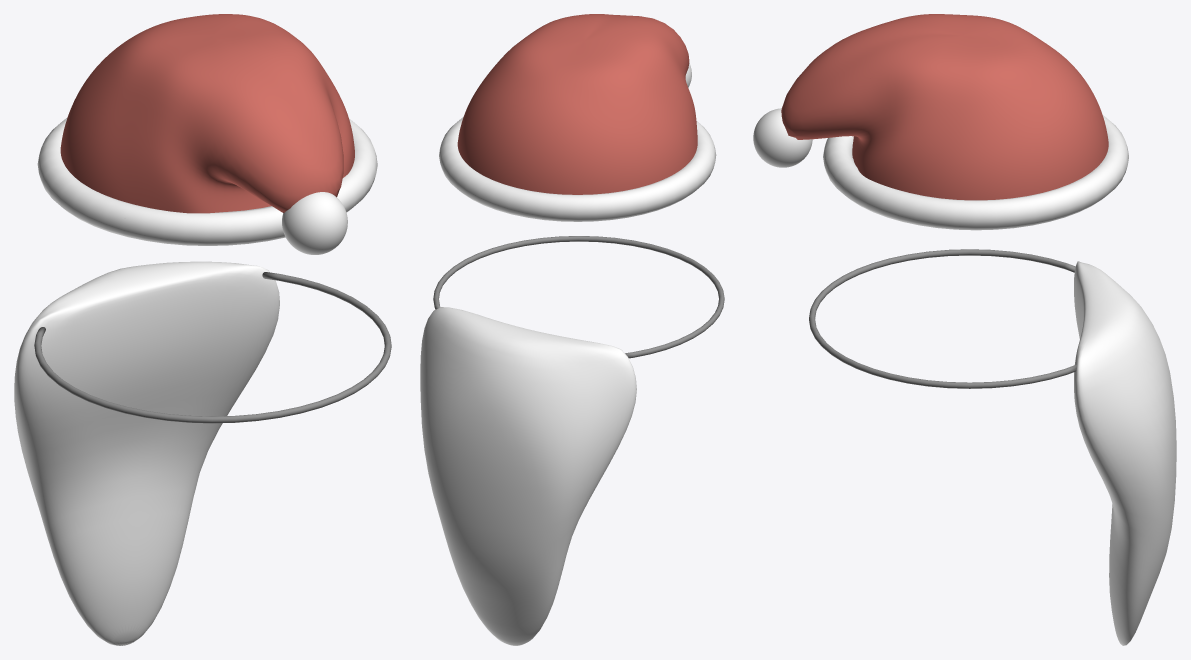
The model's file is SnowShapka.fbx.
3 views of the same model, side by side, from view 1: azimuth 30°, elevation 25°; view 2: azimuth 150°, elevation 25°; view 3: azimuth 270°, elevation 25° (orthographic). The views are drawn at different scales.
Parts seen in each view (by area): view 1: Shapka_Deda; view 2: Shapka_Deda; view 3: Shapka_Deda.
Part boxes in pixels (x1,y1,x2,y2): Shapka_Deda: (14, 14, 391, 645); Shapka_Deda: (420, 14, 724, 645); Shapka_Deda: (753, 14, 1176, 645).
Size of the model in its own units: 241 by 505 by 317.
